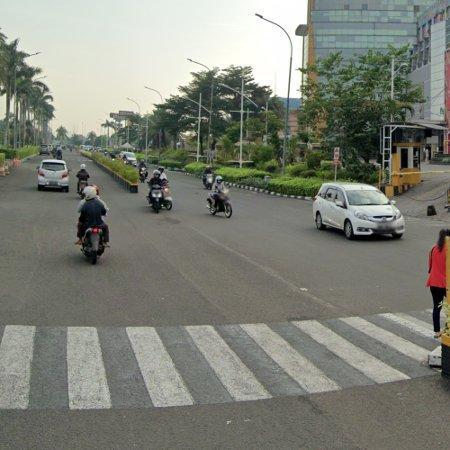crosswalk: (0, 312, 438, 410)
